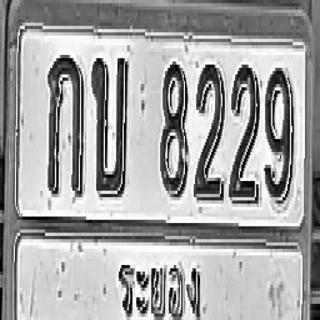A01: (47, 52, 84, 197)
A26: (91, 55, 129, 197)
N02: (194, 61, 225, 200), (229, 63, 260, 202)
N08: (159, 60, 188, 199)
N09: (264, 65, 294, 204)
P53: (112, 245, 204, 320)
